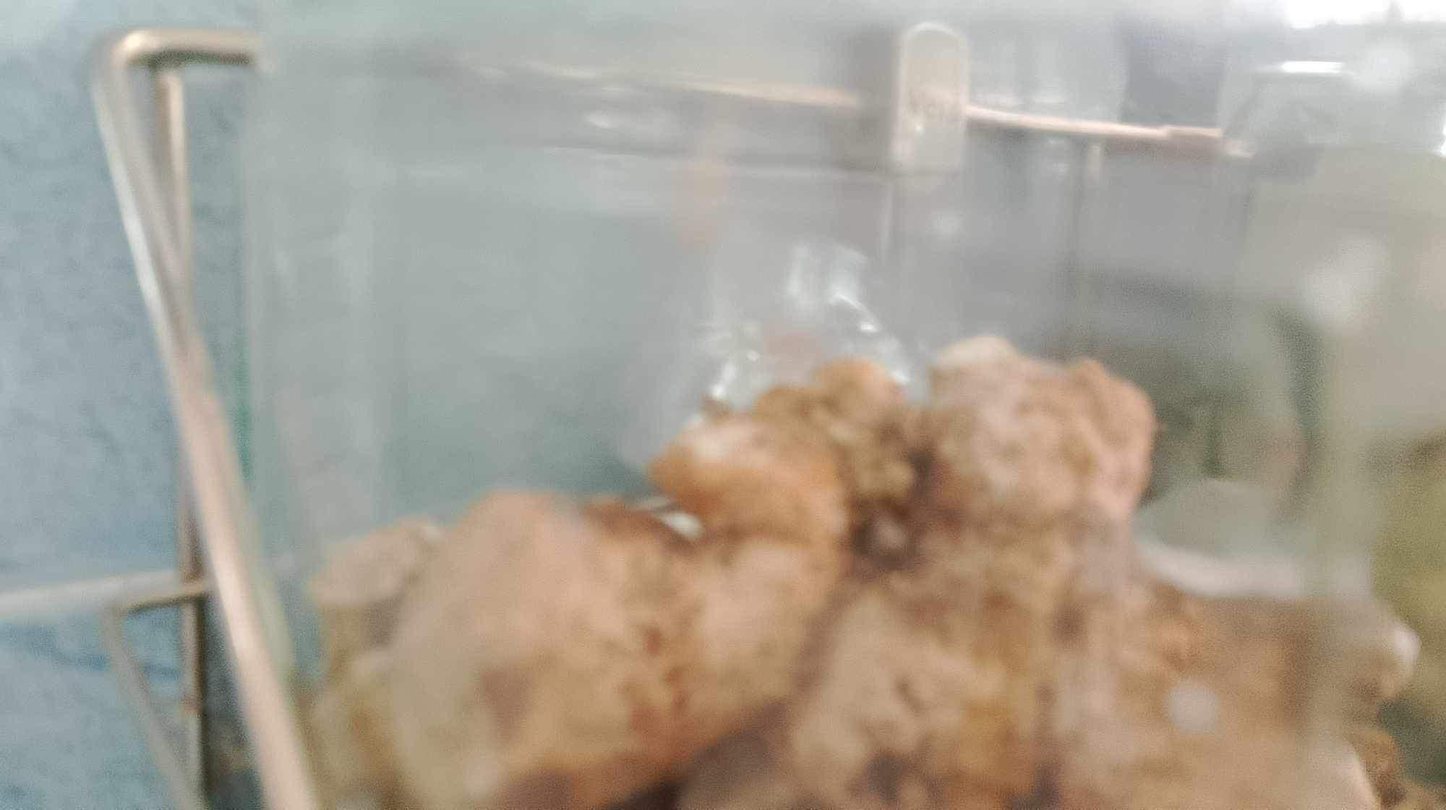General: (69, 12, 1434, 805), (299, 331, 1414, 806)
Sharps: (87, 24, 322, 806), (367, 30, 1438, 179)
